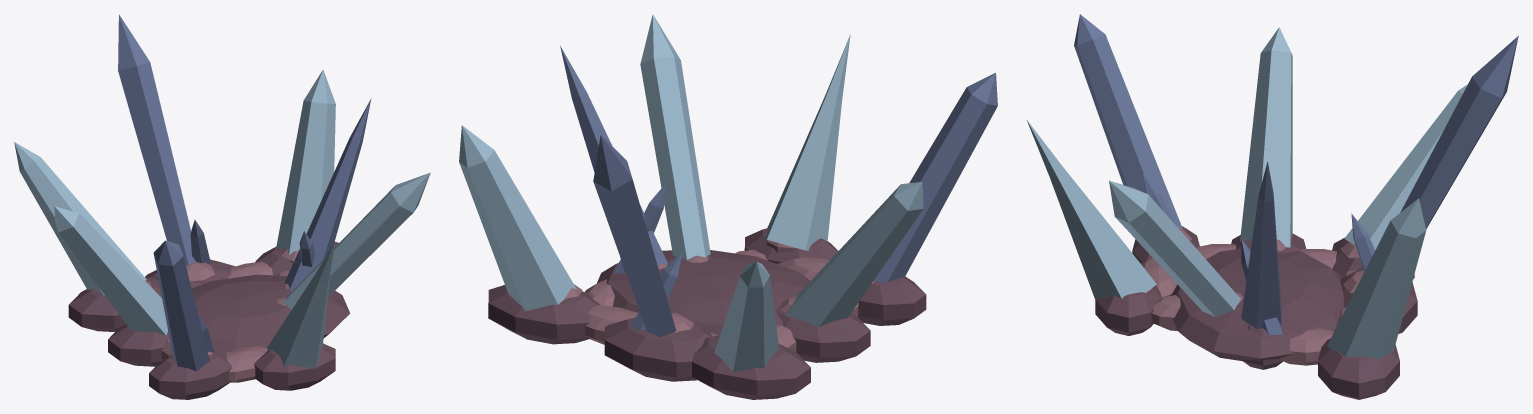
The model's file is colony_ground.glb.
3 renders of one model, left to right at view 1: azimuth 30°, elevation 25°; view 2: azimuth 150°, elevation 25°; view 3: azimuth 270°, elevation 25°, orthographic. The views are drawn at different scales.
Visible parts, largest first — view 1: colony_ground; view 2: colony_ground; view 3: colony_ground.
Part boxes in pixels (left/top/right/bottom): colony_ground: left=14, top=14, right=430, bottom=399; colony_ground: left=459, top=14, right=997, bottom=399; colony_ground: left=1026, top=14, right=1518, bottom=399.
Bounding box in the file's own units: 1.25 × 0.897 × 1.39.
